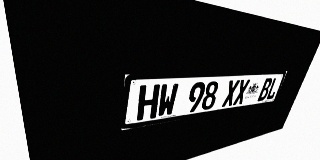8: (200, 81, 220, 111)
9: (186, 82, 207, 113)
B: (257, 78, 273, 101)
H: (136, 84, 160, 121)
L: (265, 77, 281, 100)
W: (156, 83, 179, 118)
X: (221, 80, 240, 107), (233, 79, 250, 105)
